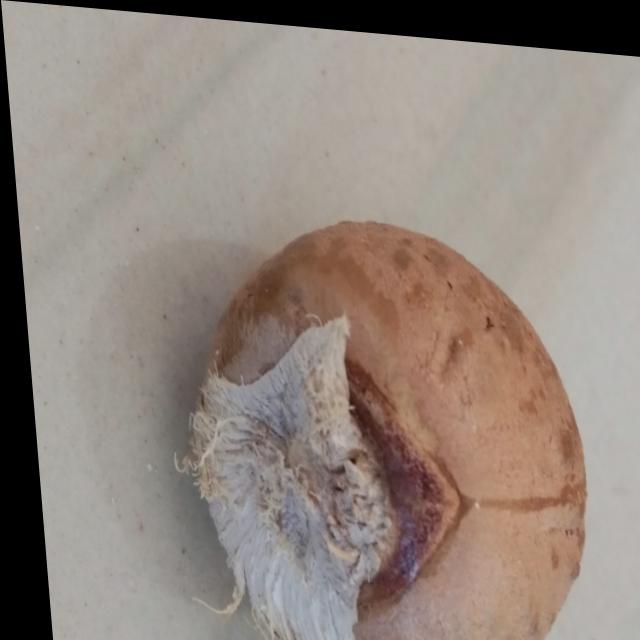phatora: (88, 163, 640, 640)
